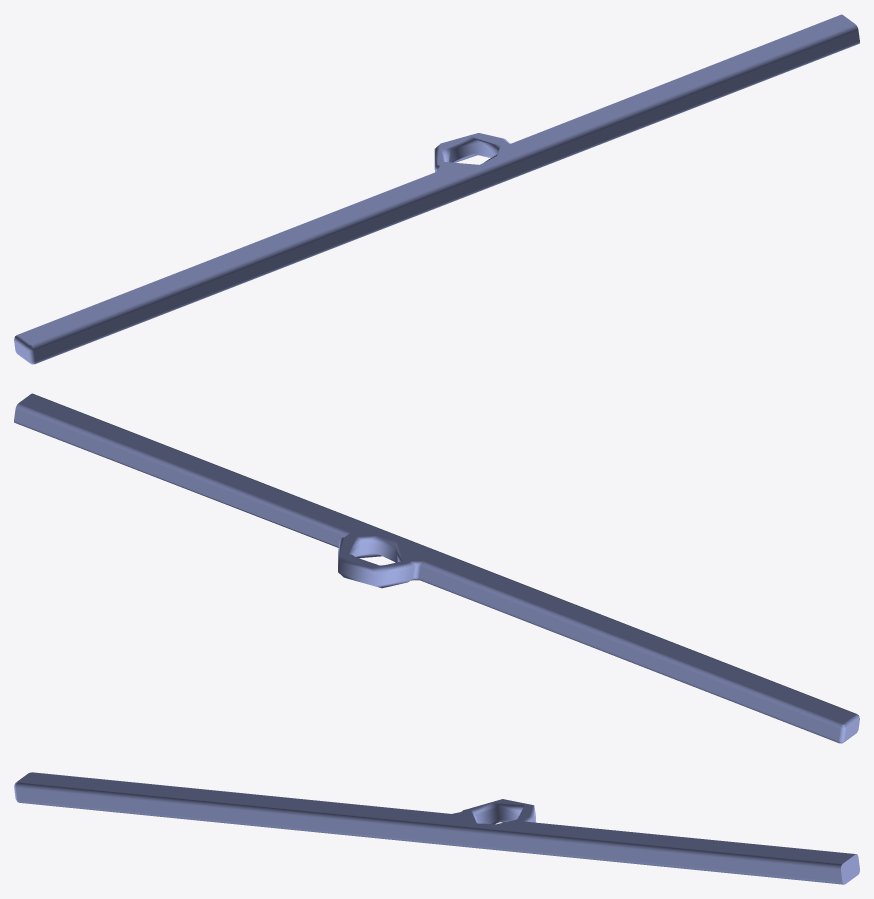
File: Copie de piece droite 2^Copie de Ass piece plan 2_Horloge Comtoise Verge - Sonnerie.obj
3 renders of one model, top to bottom at view 1: azimuth 30°, elevation 25°; view 2: azimuth 150°, elevation 25°; view 3: azimuth 330°, elevation 25°, orthographic.
Visible parts, largest first — view 1: Face_35, Face_13, Face_24, Face_3; view 2: Face_35, Face_16, Face_21, Face_27, Face_32, Face_5, Face_24, Face_19, Face_10; view 3: Face_13, Face_35, Face_24, Face_3, Face_22, Face_27, Face_2, Face_33.
Part boxes in pixels (<box>): Face_35: <box>18,15,854,344</box>; Face_13: <box>34,30,859,361</box>; Face_24: <box>31,24,858,350</box>; Face_3: <box>35,41,859,363</box>; Face_35: <box>19,394,855,723</box>; Face_16: <box>419,566,839,740</box>; Face_21: <box>14,409,344,546</box>; Face_27: <box>421,561,842,729</box>; Face_32: <box>15,403,350,536</box>; Face_5: <box>419,578,838,742</box>; Face_24: <box>32,393,856,714</box>; Face_19: <box>338,542,411,585</box>; Face_10: <box>14,420,338,547</box>; Face_13: <box>16,788,842,881</box>; Face_35: <box>18,772,854,863</box>; Face_24: <box>16,782,842,869</box>; Face_3: <box>18,800,843,884</box>; Face_22: <box>475,807,520,823</box>; Face_27: <box>31,772,450,813</box>; Face_2: <box>841,854,859,884</box>; Face_33: <box>471,802,524,823</box>.
Size of the model in its own units: 0.0628 by 0.0101 by 0.00533.
